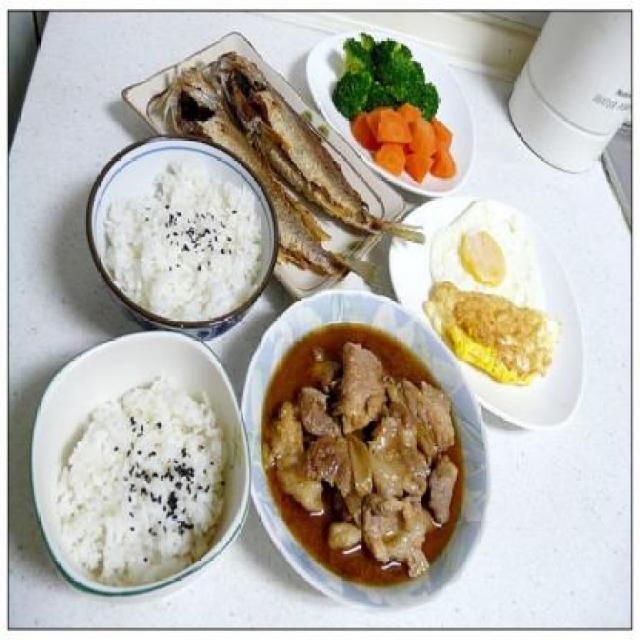Carrot: (377, 108, 415, 144), (352, 110, 376, 152), (402, 152, 434, 182), (409, 120, 437, 152), (374, 146, 402, 177), (438, 123, 454, 152)
